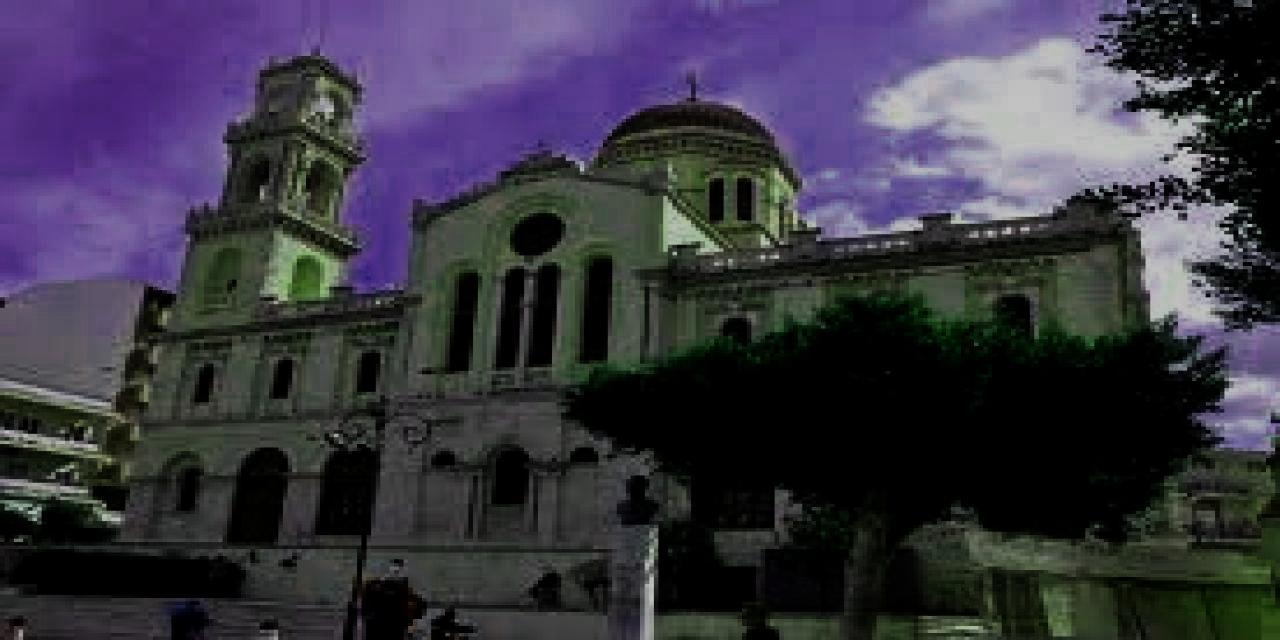Agios Minas: (108, 21, 1155, 608)
